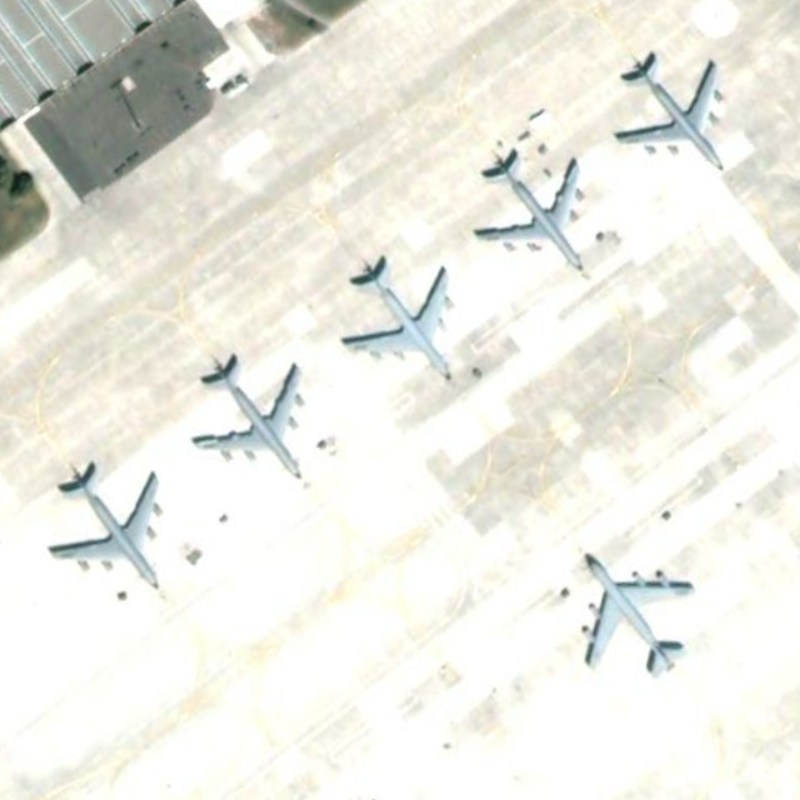A14: (328, 248, 473, 393), (182, 349, 328, 489), (43, 457, 184, 600), (468, 134, 603, 278), (608, 48, 746, 188), (576, 542, 702, 684)
